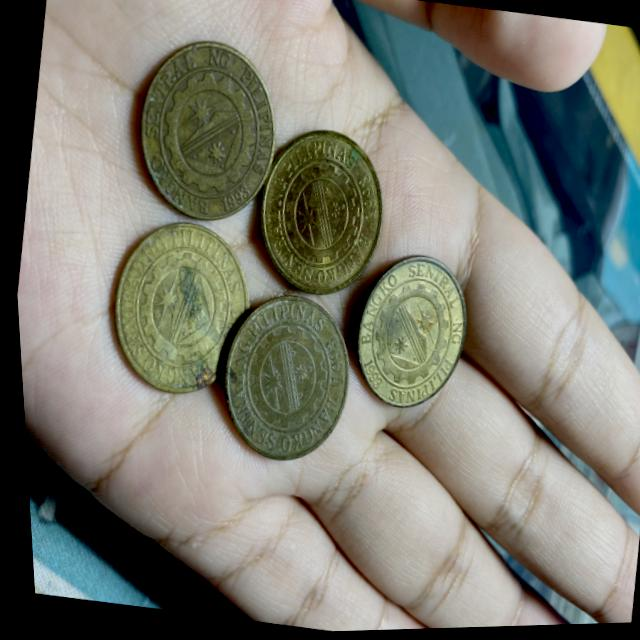25Cent_Old_Back: (118, 27, 289, 233), (98, 211, 251, 408), (247, 121, 392, 309), (210, 288, 355, 468), (346, 254, 474, 413)
